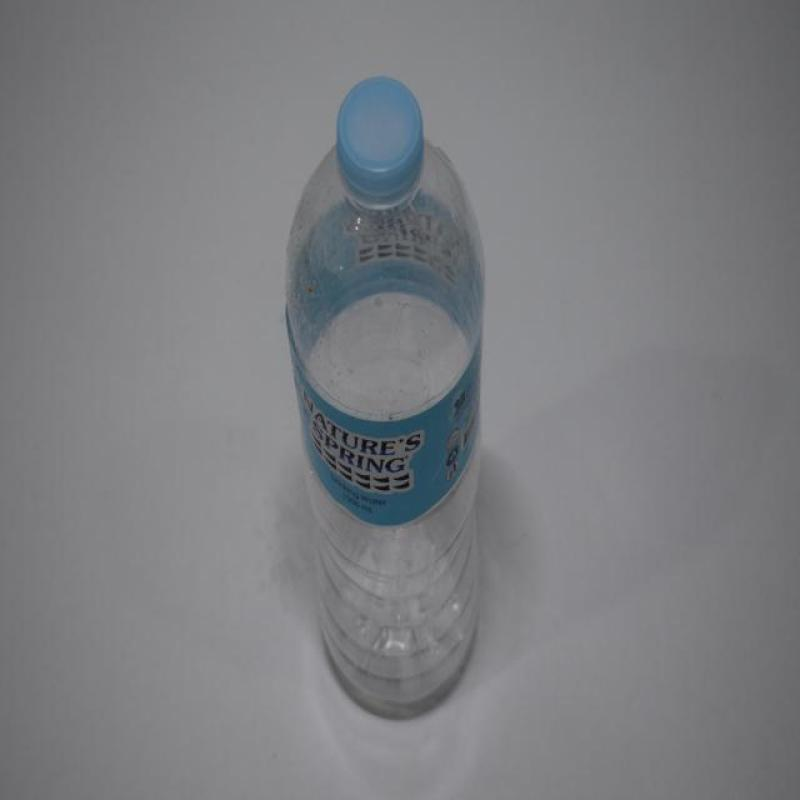botella: (286, 76, 486, 714)
